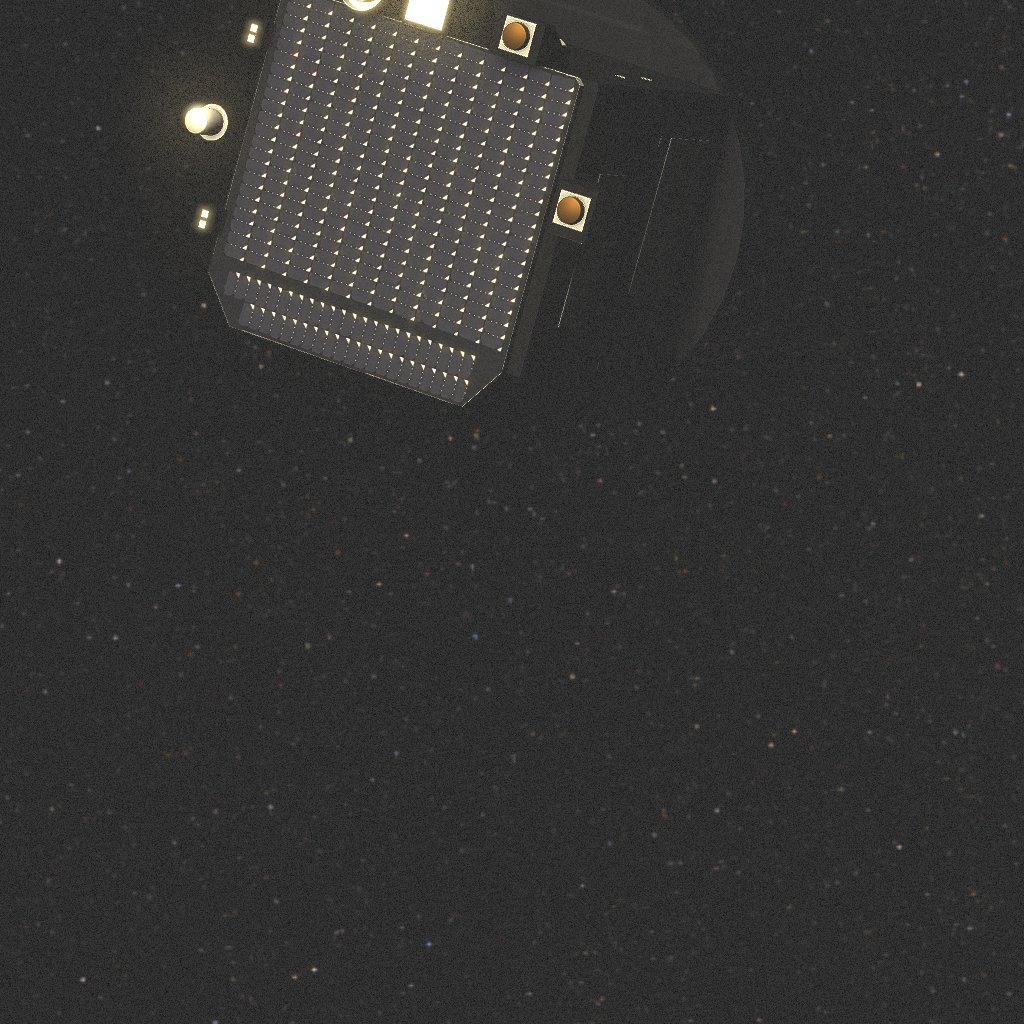proba_3_ocs: (185, 0, 754, 426)
